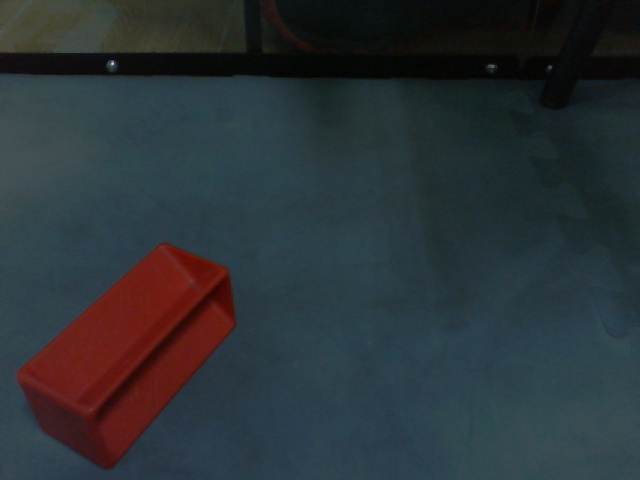RedSample: (14, 240, 241, 474)
